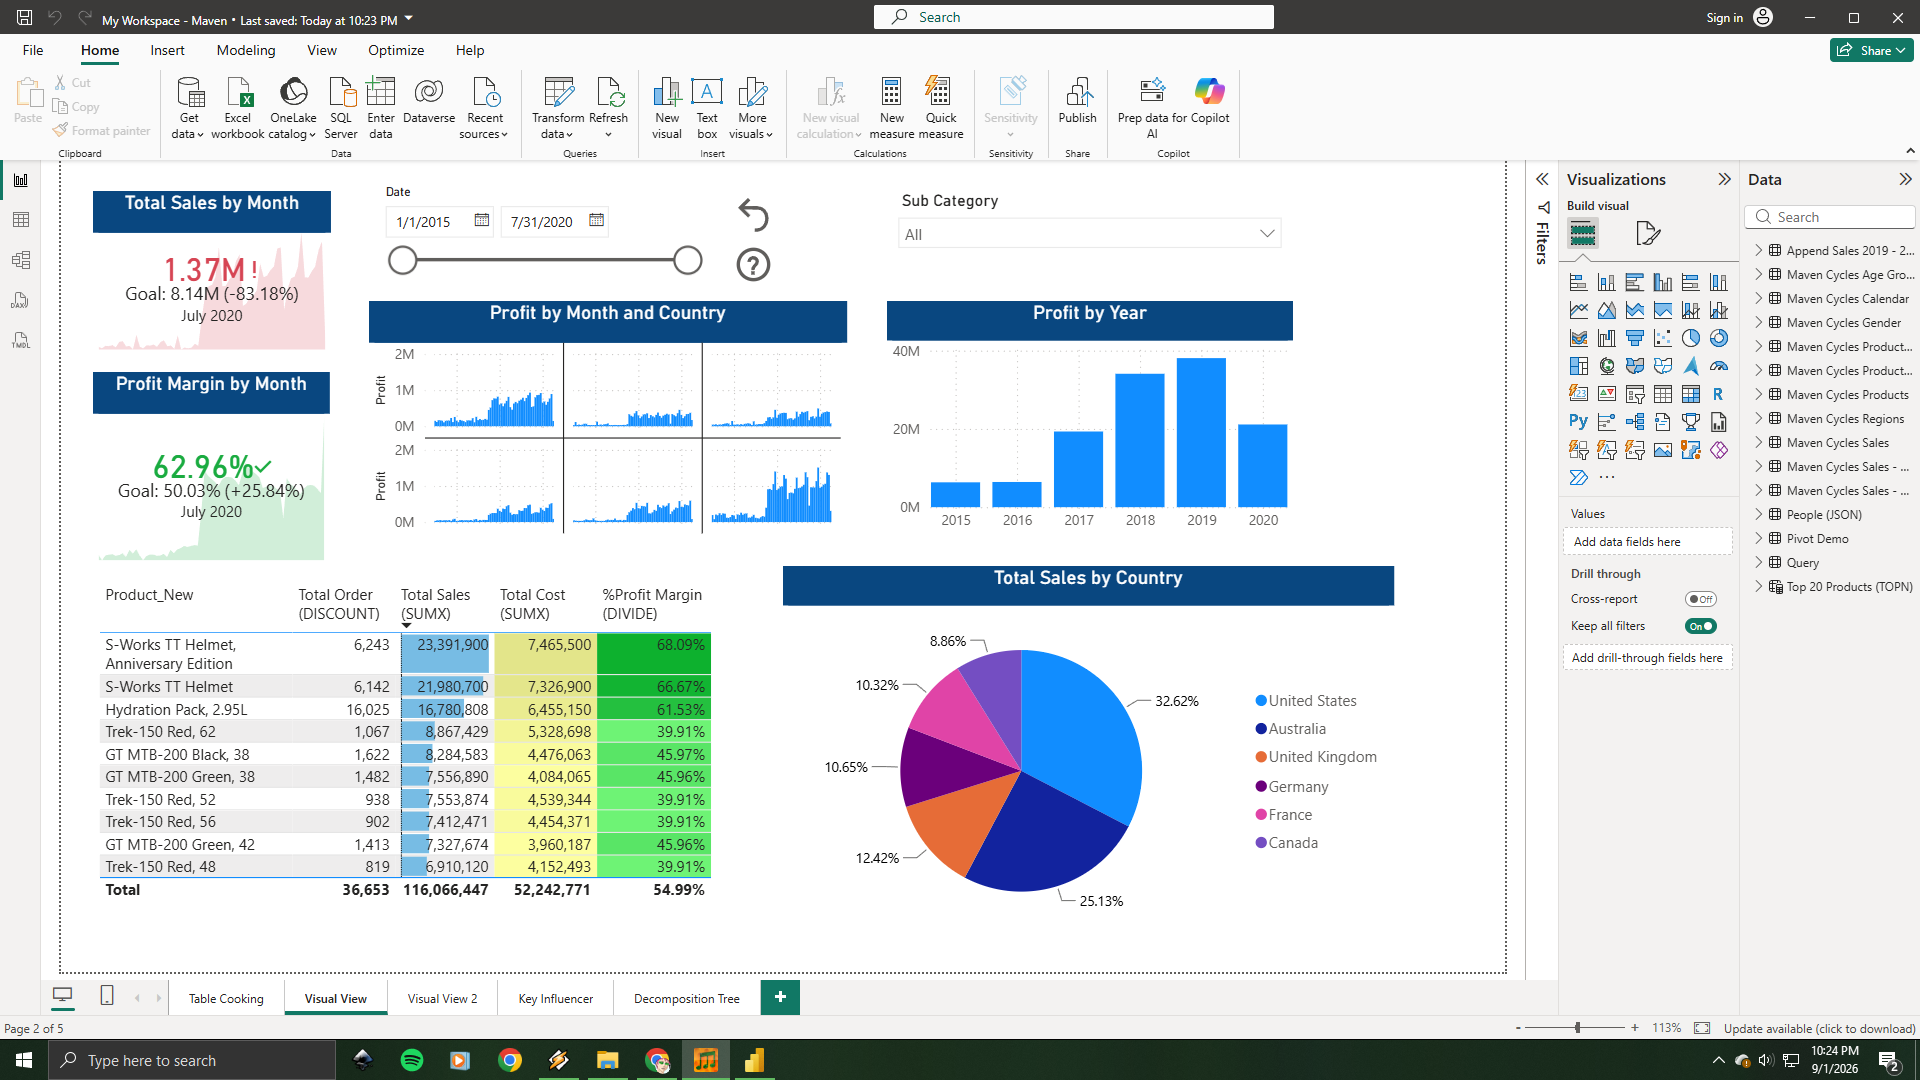

This screenshot's page, from the dashboard's own definition file:
{"tool":"powerbi","page":{"name":"Visual View","canvas":[1280,720],"ordinal":1},"visuals":[{"type":"kpi","title":"Total Sales by Month","fields":{"Indicator":["Maven Cycles Sales.Total Sales (SUMX)"],"TrendLine":["Maven Cycles Calendar.Month"],"Goal":["Maven Cycles Sales.Last Month Sales (DATEADD)"]},"box":[28.7,27.8,211.1,145.5],"z":0},{"type":"kpi","title":"Profit Margin by Month","fields":{"Indicator":["Maven Cycles Sales.%Profit Margin (DIVIDE)"],"TrendLine":["Maven Cycles Calendar.Month"],"Goal":["Maven Cycles Sales.Last Month Profit Margin (DATEADD)"]},"box":[28.4,188,210.1,172],"z":1000},{"type":"tableEx","fields":{"Values":["Maven Cycles Products.Product_New","Maven Cycles Sales.Total Order (DISCOUNT)","Maven Cycles Sales.Total Sales (SUMX)","Maven Cycles Sales.Total Cost (SUMX)","Maven Cycles Sales.%Profit Margin (DIVIDE)"]},"box":[28.7,370.1,571.3,333.2],"z":2000},{"type":"pieChart","title":"Total Sales by Country","fields":{"Category":["Maven Cycles Regions.Country"],"Y":["Maven Cycles Sales.Total Sales (SUMX)"]},"box":[640.2,360,541.6,333.2],"z":3000},{"type":"clusteredColumnChart","fields":{"Category":["Maven Cycles Calendar.Month"],"Y":["Maven Cycles Sales.Profit"],"Rows":["Maven Cycles Regions.Country"]},"box":[273.1,125,423.8,212.8],"z":4000},{"type":"lineStackedColumnComboChart","fields":{"Category":["Maven Cycles Calendar.Year"],"Y":["Maven Cycles Sales.Profit"]},"box":[732.4,125,360,212.8],"z":5000},{"type":"slicer","fields":{"Values":["Maven Cycles Calendar.Date"]},"box":[274.5,17.1,302.4,94.9],"z":6000},{"type":"actionButton","box":[593.9,28.2,40.2,40.2],"z":7000},{"type":"actionButton","box":[593.9,72.9,39.9,39.9],"z":8000},{"type":"slicer","fields":{"Values":["Maven Cycles Product Subcategories.Sub Category"]},"box":[732.4,23.1,360,83.3],"z":9000}]}

Visuals, with their boxes on the page's 1280x720 design canvas (x1, y1, x2, y2). These are canvas units, not pixel positions in the 1920x1080 screenshot, which may show the page scaled, cropped or inside an application window:
"Total Sales by Month" kpi: Rect(29, 28, 240, 173)
"Profit Margin by Month" kpi: Rect(28, 188, 238, 360)
tableEx - Maven Cycles Products.Product_New x Maven Cycles Sales.Total Order (DISCOUNT): Rect(29, 370, 600, 703)
"Total Sales by Country" pieChart: Rect(640, 360, 1182, 693)
clusteredColumnChart - Maven Cycles Calendar.Month x Maven Cycles Sales.Profit: Rect(273, 125, 697, 338)
lineStackedColumnComboChart - Maven Cycles Calendar.Year x Maven Cycles Sales.Profit: Rect(732, 125, 1092, 338)
slicer - Maven Cycles Calendar.Date: Rect(274, 17, 577, 112)
actionButton: Rect(594, 28, 634, 68)
actionButton: Rect(594, 73, 634, 113)
slicer - Maven Cycles Product Subcategories.Sub Category: Rect(732, 23, 1092, 106)
